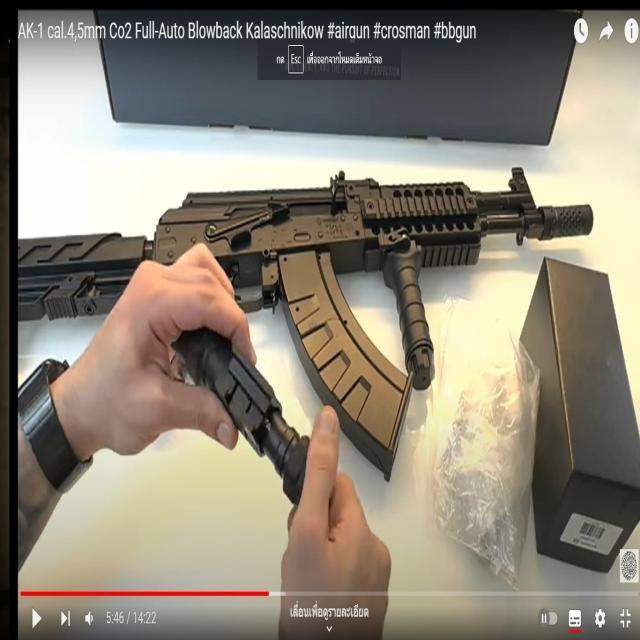ak: (22, 174, 606, 535)
